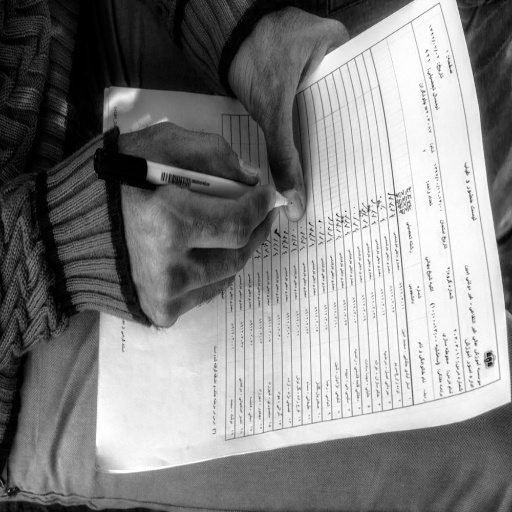hand: (117, 121, 281, 330), (219, 0, 348, 198)
